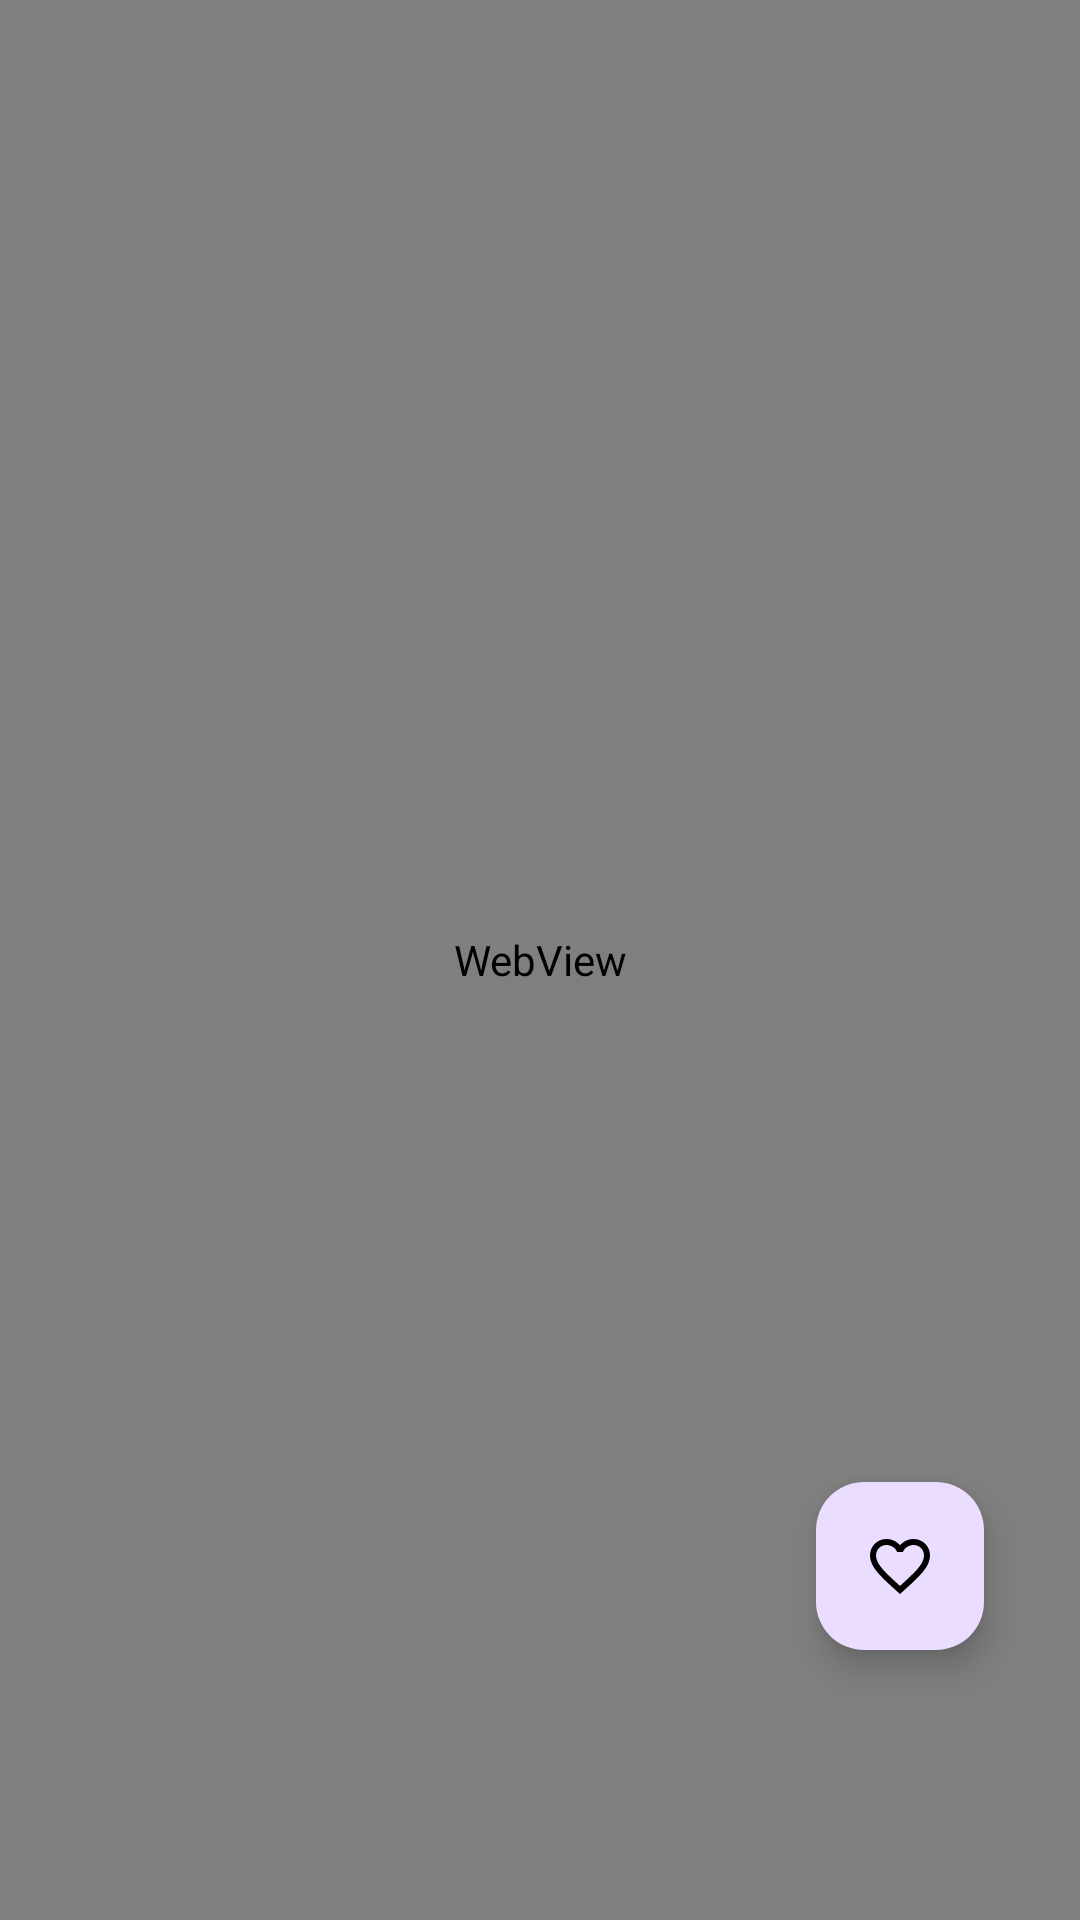

Screen size 1080 x 1920. Icon name, then its box in pixels as [x1=x1, y1=y1, x2=x2, y2=y2]:
favorite border: [x1=816, y1=1482, x2=984, y2=1650]
